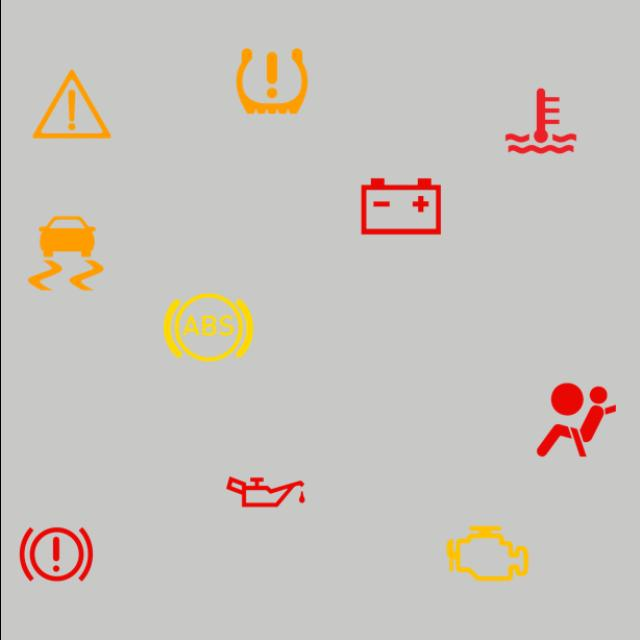Anti Lock Braking System: (158, 278, 256, 376)
Braking System Issue: (6, 506, 104, 604)
Charging System Issue: (352, 157, 449, 255)
Check Engine: (438, 504, 536, 602)
Electronic Stability Problem -ESP-: (15, 205, 114, 302)
Engine Overheating Warning Light: (491, 72, 589, 170)
Low Engine Oil Warning Light: (216, 443, 314, 541)
Low Tire Pressure Warning Light: (222, 32, 320, 130)
Master warning light: (22, 55, 120, 153)
SRS-Airbag: (526, 371, 624, 469)
